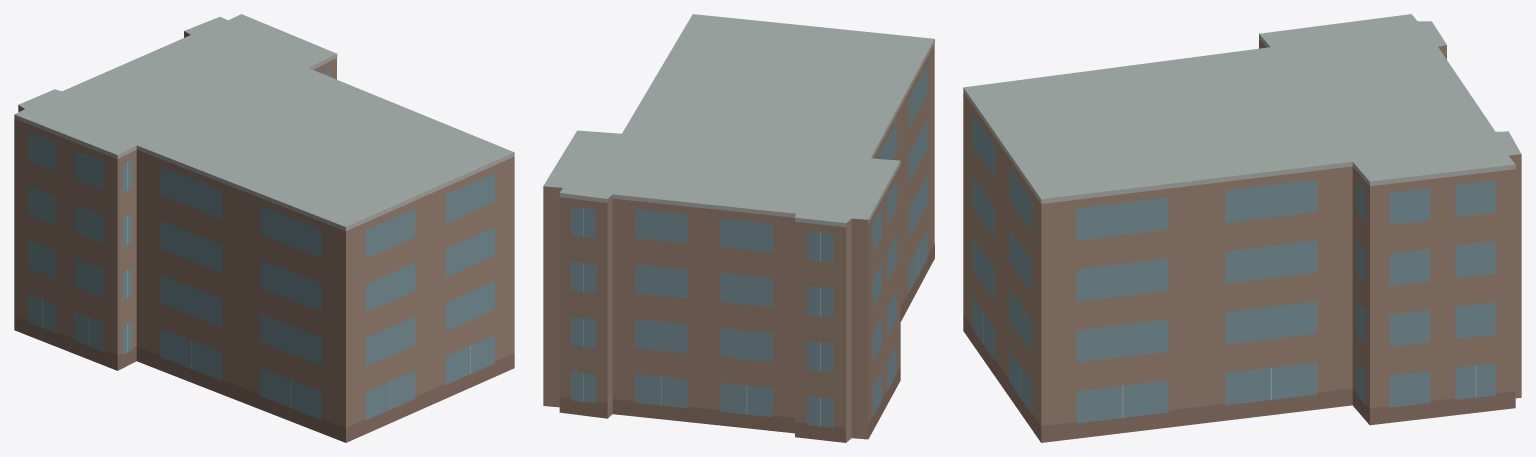
File: survey-upis-32562689.glb
3 views of the same model, side by side, from view 1: azimuth 30°, elevation 25°; view 2: azimuth 150°, elevation 25°; view 3: azimuth 270°, elevation 25° (orthographic). The views are drawn at different scales.
Parts seen in each view (by area): view 1: survey-upis-32562689.tmp; view 2: survey-upis-32562689.tmp; view 3: survey-upis-32562689.tmp.
Boxes of the visible parts, left/top/right/bottom form: survey-upis-32562689.tmp: left=14, top=14, right=514, bottom=442; survey-upis-32562689.tmp: left=543, top=14, right=934, bottom=442; survey-upis-32562689.tmp: left=963, top=14, right=1521, bottom=442.
Bounding box in the file's own units: 20.9 × 12.8 × 26.59.
